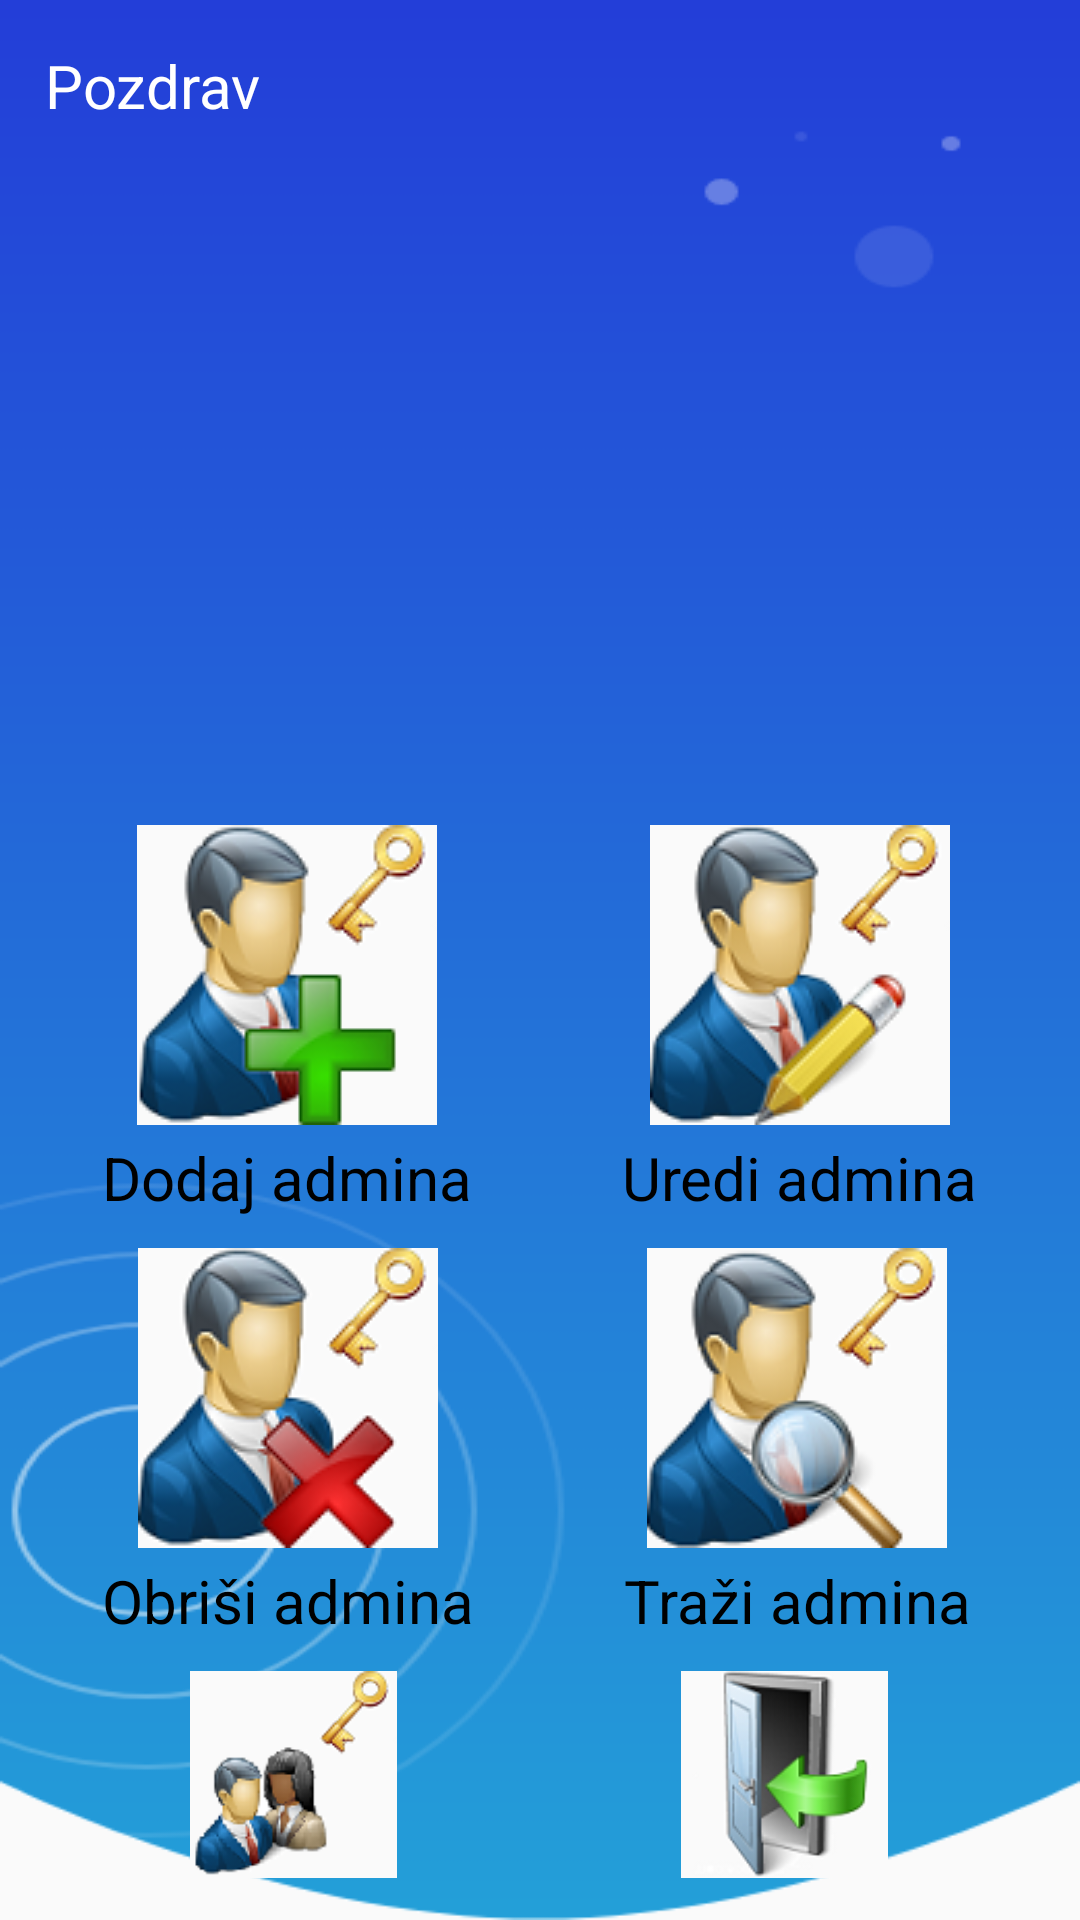

Named icons in this screenshot (1080w x 1920h) and their centers, (x,y):
odjavi se: (807,1774)
prikazi admine: (274,1774)
